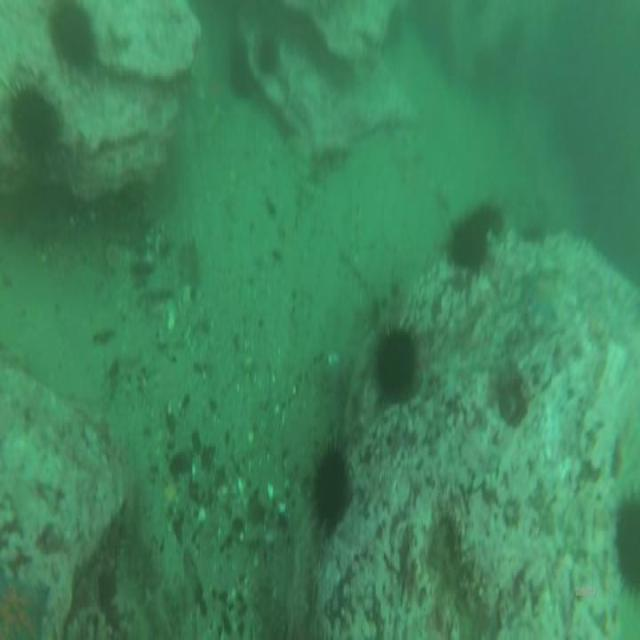echinus: (310, 447, 350, 533), (374, 327, 418, 405), (48, 0, 96, 71), (11, 84, 57, 155), (451, 221, 486, 275), (227, 52, 255, 98), (257, 35, 280, 74)
scallop: (618, 501, 640, 588)
starfish: (1, 577, 45, 640)
